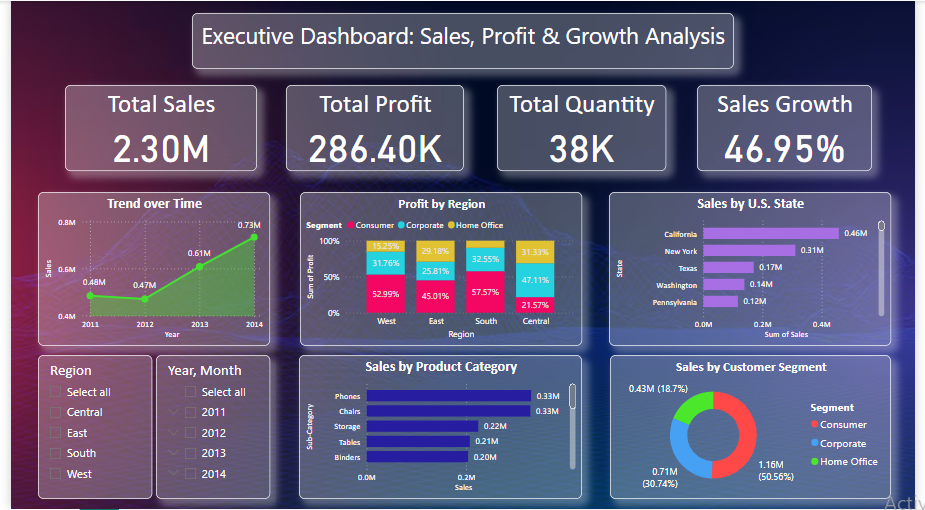

The page's visual inventory and layout, read from the dashboard file:
{"tool":"powerbi","page":{"name":"Dashboard","canvas":[1280,720],"ordinal":0},"visuals":[{"type":"card","title":"Total Sales","fields":{"Values":["Sum(Global_Superstore2.Sales)"]},"box":[76.5,119.1,272.1,121.9],"z":0},{"type":"card","title":"Total Profit","fields":{"Values":["Sum(Global_Superstore2.Profit)"]},"box":[389.8,119.1,252.3,121.9],"z":1000},{"type":"lineChart","title":"Trend over Time","fields":{"Y":["Sum(Global_Superstore2.Sales)"],"Category":["Global_Superstore2.Order Date.Variation.Date Hierarchy.Year","Global_Superstore2.Order Date.Variation.Date Hierarchy.Month"]},"box":[38.3,270.7,328.8,218.3],"z":2000},{"type":"clusteredBarChart","title":"Sales by Product Category","fields":{"Category":["Global_Superstore2.Sub-Category"],"Y":["Sum(Global_Superstore2.Sales)"]},"box":[408.2,501.7,401.1,204.1],"z":3000},{"type":"slicer","fields":{"Values":["Global_Superstore2.Order Date.Variation.Date Hierarchy.Year","Global_Superstore2.Order Date.Variation.Date Hierarchy.Month"]},"box":[205.5,501.7,161.6,204.1],"z":4000},{"type":"hundredPercentStackedColumnChart","title":"Profit by Region","fields":{"Category":["Global_Superstore2.Region"],"Series":["Global_Superstore2.Segment"],"Y":["Sum(Global_Superstore2.Profit)"]},"box":[409.6,270.7,399.7,218.3],"z":5000},{"type":"donutChart","title":"Sales by Customer Segment","fields":{"Category":["Global_Superstore2.Segment"],"Y":["Sum(Global_Superstore2.Sales)"]},"box":[849,501.7,398.3,204.1],"z":6000},{"type":"clusteredBarChart","title":"Sales by U.S. State","fields":{"Y":["Sum(Global_Superstore2.Sales)"],"Category":["Global_Superstore2.State"]},"box":[847.6,270.7,399.7,218.3],"z":7000},{"type":"textbox","box":[256.5,17,768.2,79.4],"z":8000},{"type":"card","title":"Sales Growth","fields":{"Values":["Global_Superstore2.Sales Growth (%)"]},"box":[972.3,119.1,248,121.9],"z":9000},{"type":"card","title":"Total Quantity","fields":{"Values":["Sum(Global_Superstore2.Quantity)"]},"box":[688.8,119.1,239.5,121.9],"z":9001},{"type":"slicer","fields":{"Values":["Global_Superstore2.Region"]},"box":[38.3,501.7,161.6,204.1],"z":9002}]}

Visuals, with their boxes in screenshot pixels (x1, y1, x2, y2), scaled from the page's 1280x720 canvas onto the 925x510 screenshot:
"Total Sales" card: 55 84 252 171
"Total Profit" card: 282 84 464 171
"Trend over Time" lineChart: 28 192 265 346
"Sales by Product Category" clusteredBarChart: 295 355 585 500
slicer - Global_Superstore2.Order Date.Variation.Date Hierarchy.Year x Global_Superstore2.Order Date.Variation.Date Hierarchy.Month: 149 355 265 500
"Profit by Region" hundredPercentStackedColumnChart: 296 192 585 346
"Sales by Customer Segment" donutChart: 614 355 901 500
"Sales by U.S. State" clusteredBarChart: 613 192 901 346
textbox: 185 12 741 68
"Sales Growth" card: 703 84 882 171
"Total Quantity" card: 498 84 671 171
slicer - Global_Superstore2.Region: 28 355 144 500
